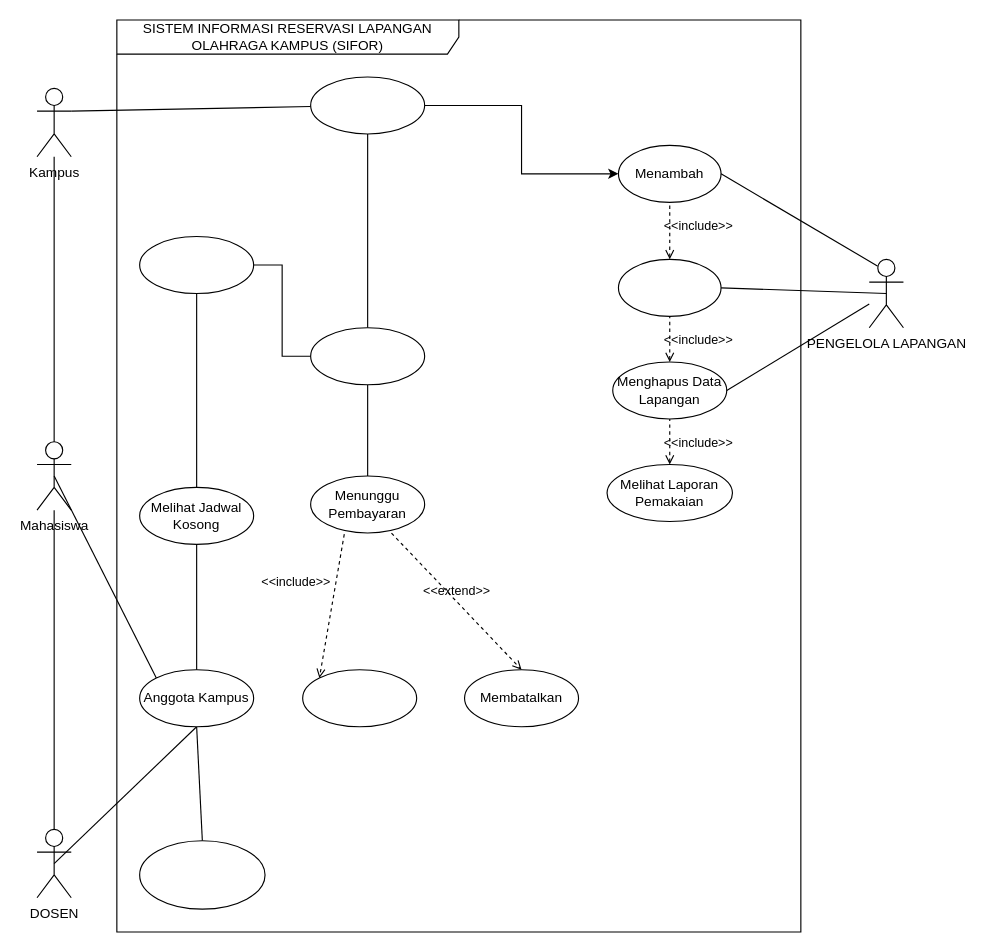
This 985x952 diagram has some shape labels left out. The shapes that lost their labels are listed below. From the top down, each one's box as (x1, y1, x2, y2) in pixels, then its label:
(310, 76, 425, 134): Menyewakan Lapangan
(139, 235, 254, 294): Memesan
(617, 258, 721, 316): Mengubah
(310, 327, 425, 385): Slot Waktu
(302, 669, 417, 727): Lunas
(139, 840, 265, 909): Melihat Riwayat Pemesanan
